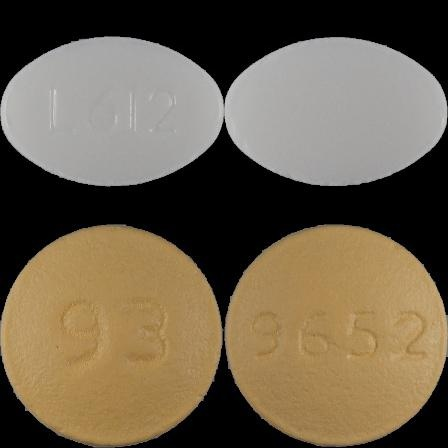63629-1329: (0, 0, 224, 224)
